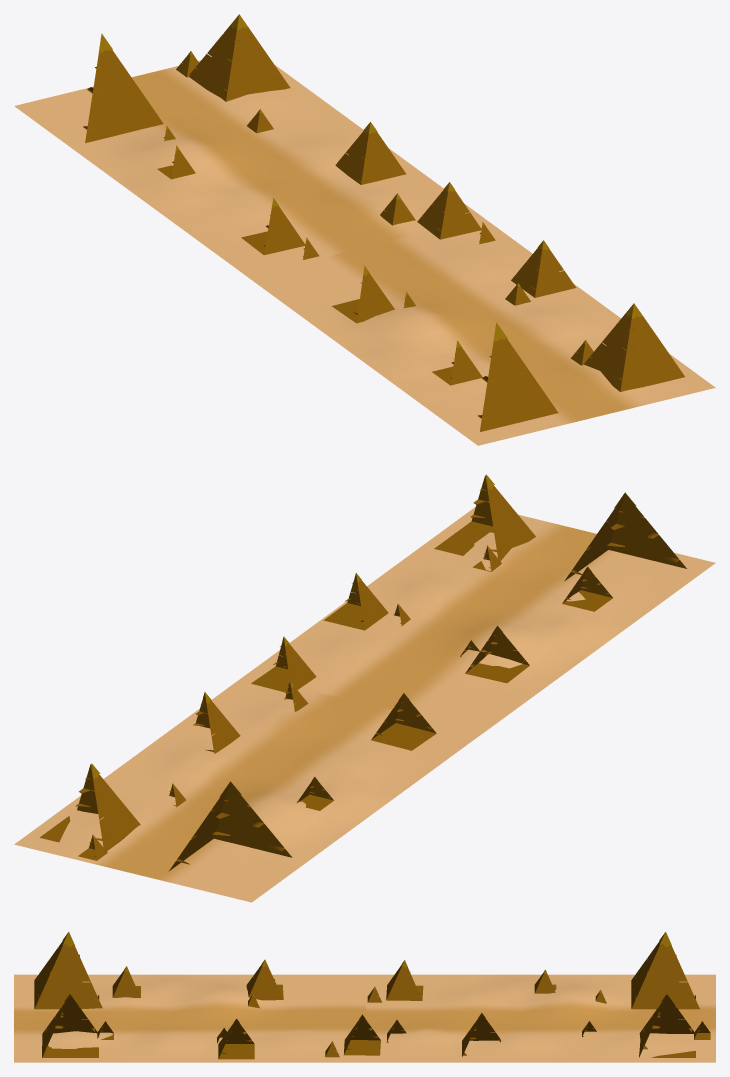
Rendered from Pyramids.glb.
3 renders of one model, top to bottom at view 1: azimuth 30°, elevation 25°; view 2: azimuth 150°, elevation 25°; view 3: azimuth 270°, elevation 25°, orthographic. The views are drawn at different scales.
Parts seen in each view (by area): view 1: Plane.073, Plane.062, Cube.113, Cube.108, Cube.004, Cube.007, Cube.116, Cube.253, Cube.005, Cube.100, Cube.249, Cube.127; view 2: Plane.073, Plane.062, Cube.007, Cube.004, Cube.113, Cube.108, Cube.100, Cube.253, Cube.249, Cube.005, Cube.116, Cube.127; view 3: Plane.073, Plane.062, Cube.007, Cube.004, Cube.113, Cube.108, Cube.253, Cube.005, Cube.100, Cube.249, Cube.116, Cube.127 (+1 smaller).
Boxes of the visible parts, x1,y1,x2,y2 form: Plane.073: (14, 60, 483, 276); Plane.062: (247, 217, 715, 445); Cube.113: (584, 303, 684, 391); Cube.108: (189, 14, 290, 101); Cube.004: (478, 338, 558, 431); Cube.007: (83, 49, 163, 143); Cube.116: (335, 131, 406, 184); Cube.253: (511, 247, 576, 297); Cube.005: (417, 189, 481, 239); Cube.100: (241, 206, 305, 255); Cube.249: (331, 273, 394, 323); Cube.127: (432, 347, 482, 385); Plane.073: (14, 674, 483, 902); Plane.062: (246, 507, 715, 732); Cube.007: (168, 782, 292, 871); Cube.004: (564, 494, 686, 581); Cube.113: (434, 475, 535, 560); Cube.108: (39, 764, 140, 850); Cube.100: (371, 693, 436, 750); Cube.253: (323, 573, 388, 630); Cube.249: (465, 626, 529, 683); Cube.005: (251, 637, 316, 692); Cube.116: (193, 692, 240, 753); Cube.127: (562, 567, 612, 611); Plane.073: (364, 974, 715, 1062); Plane.062: (14, 974, 365, 1062); Cube.007: (631, 942, 699, 1009); Cube.004: (34, 941, 102, 1009); Cube.113: (42, 995, 98, 1057); Cube.108: (639, 995, 695, 1057); Cube.253: (218, 1019, 254, 1059); Cube.005: (344, 1015, 380, 1055); Cube.100: (386, 965, 423, 1000); Cube.249: (246, 965, 283, 1000); Cube.116: (462, 1013, 500, 1056); Cube.127: (112, 970, 140, 997).
Size of the model in its own units: 108 by 38.57 by 365.
Materials: 1 (1 with a texture image).
